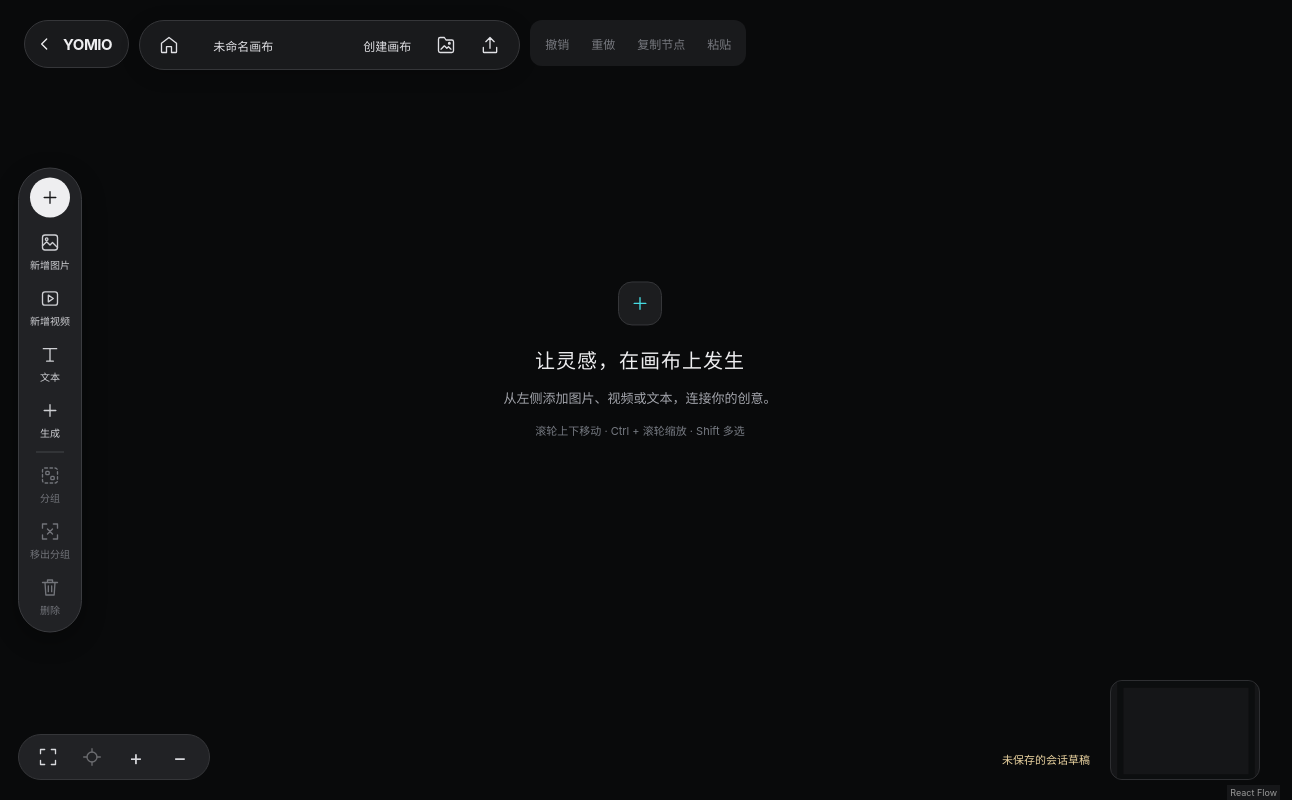
Test case: canvas production accessibility › 编辑器组件的未创建会话草稿零网络且无 axe 违规
Step 1. Click the button with aria-label "新增生成占位节点" → {"x": 50, "y": 420}, box [25,394,75,446]
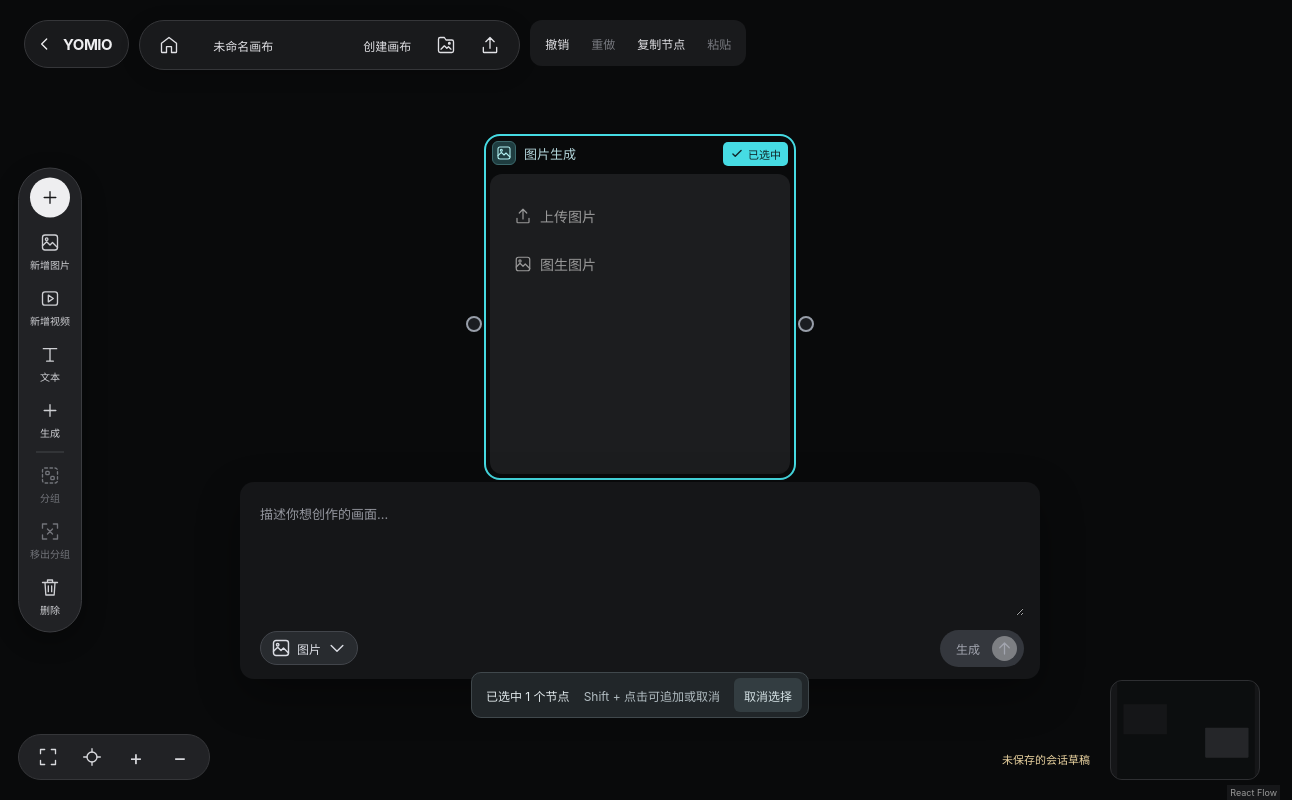
expect the message named "画布保存状态" reads "未保存的会话草稿": met, box [1002,753,1090,767]
expect the button "上传图片" is shown: met, box [514,198,766,234]
expect the button with aria-label "提交生成任务" is disabled: met, box [940,630,1024,666]
